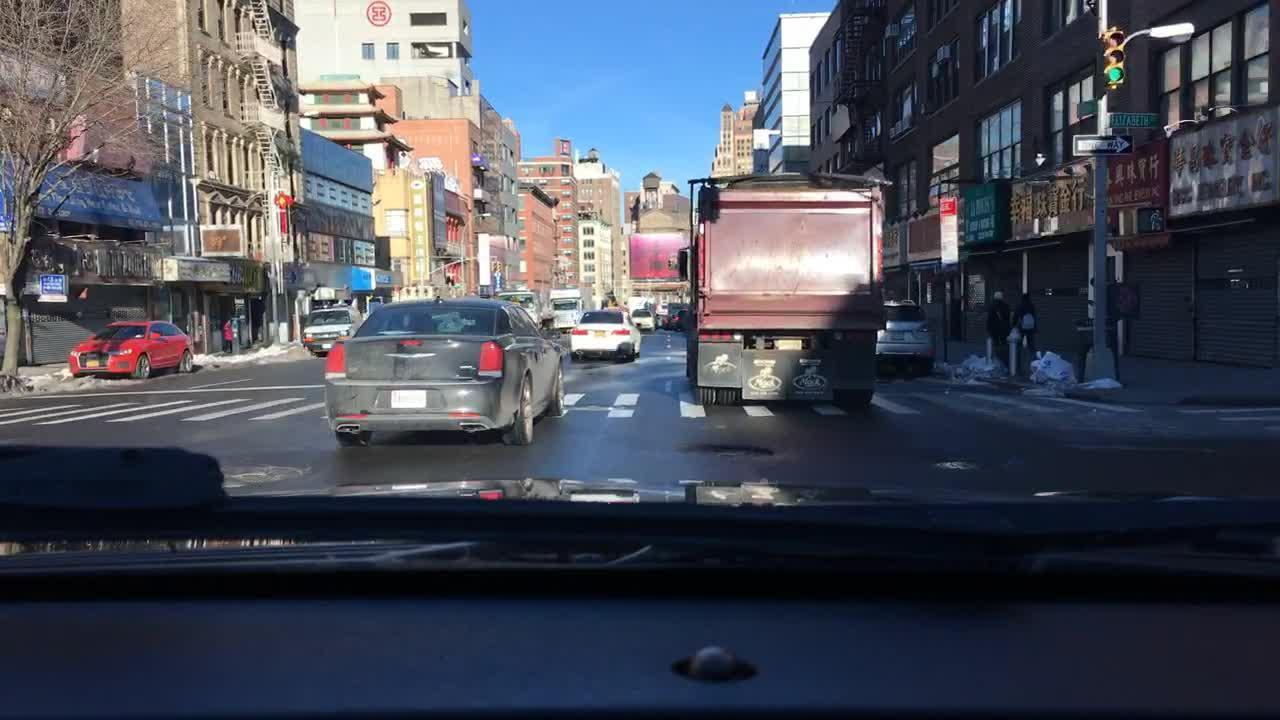Chrysler: (388, 350, 442, 362)
